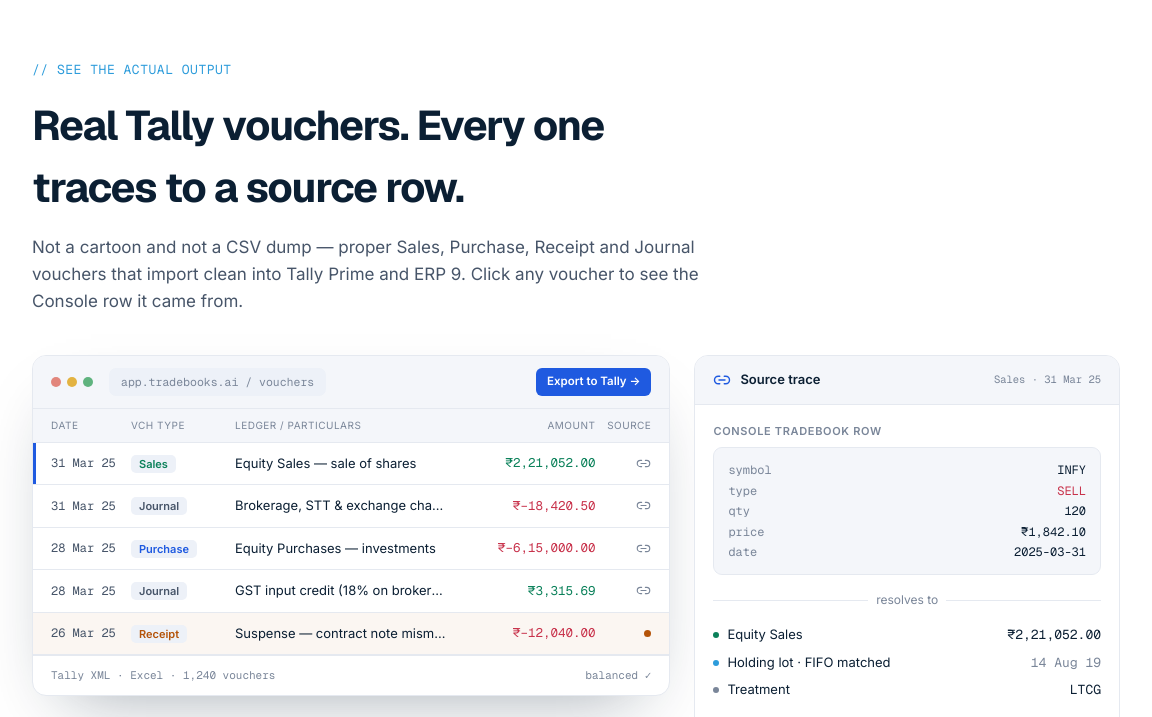
Test: OutputTerminal source trace › updates the trace panel when a different voucher row is clicked
Click the TCS purchase row.
Click the text "Equity Purchases — investments" at (345, 548), box 235,539 -> 455,558
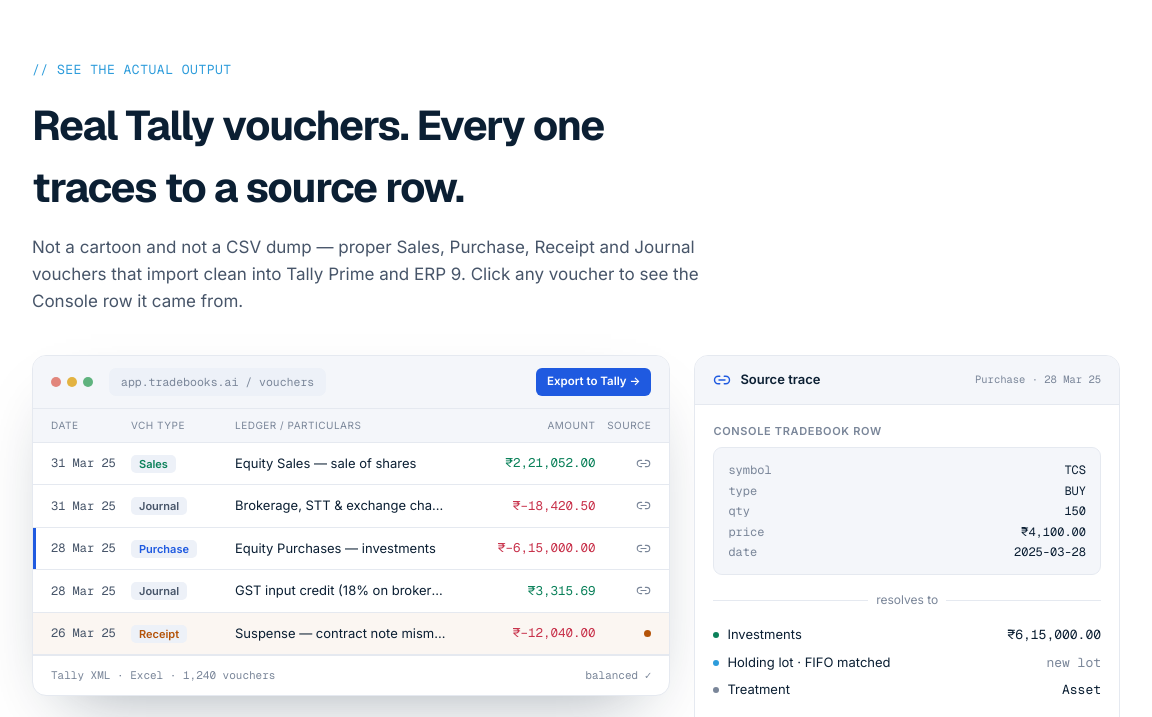
Result: the text with test id "trace-vch" reads "Purchase · 28 Mar 25" at 975,372 -> 1101,388
Result: the text with test id "trace-amt" reads "₹6,15,000.00" at 1007,626 -> 1101,643
Result: the element with test id "trace-body" shows "TCS" at 1064,462 -> 1086,478
